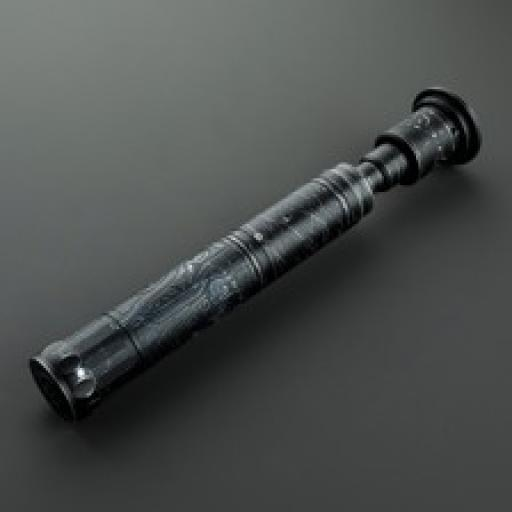lightsaber: (26, 86, 483, 429)
